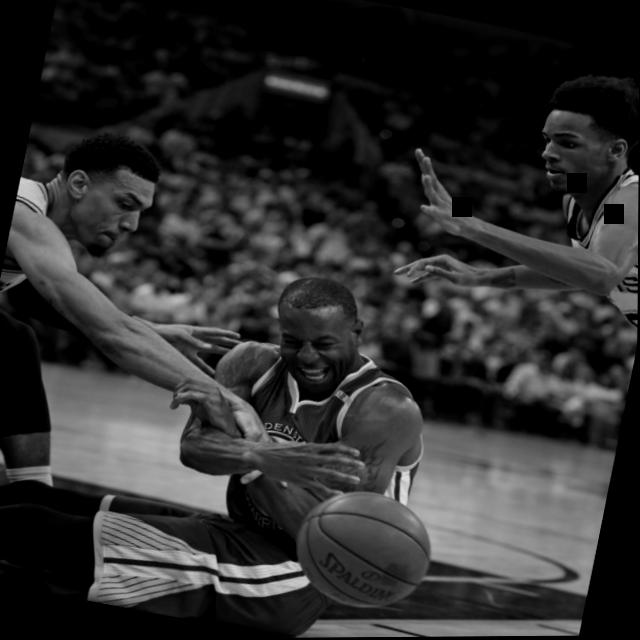Fall-Detected: (0, 182, 469, 640)
